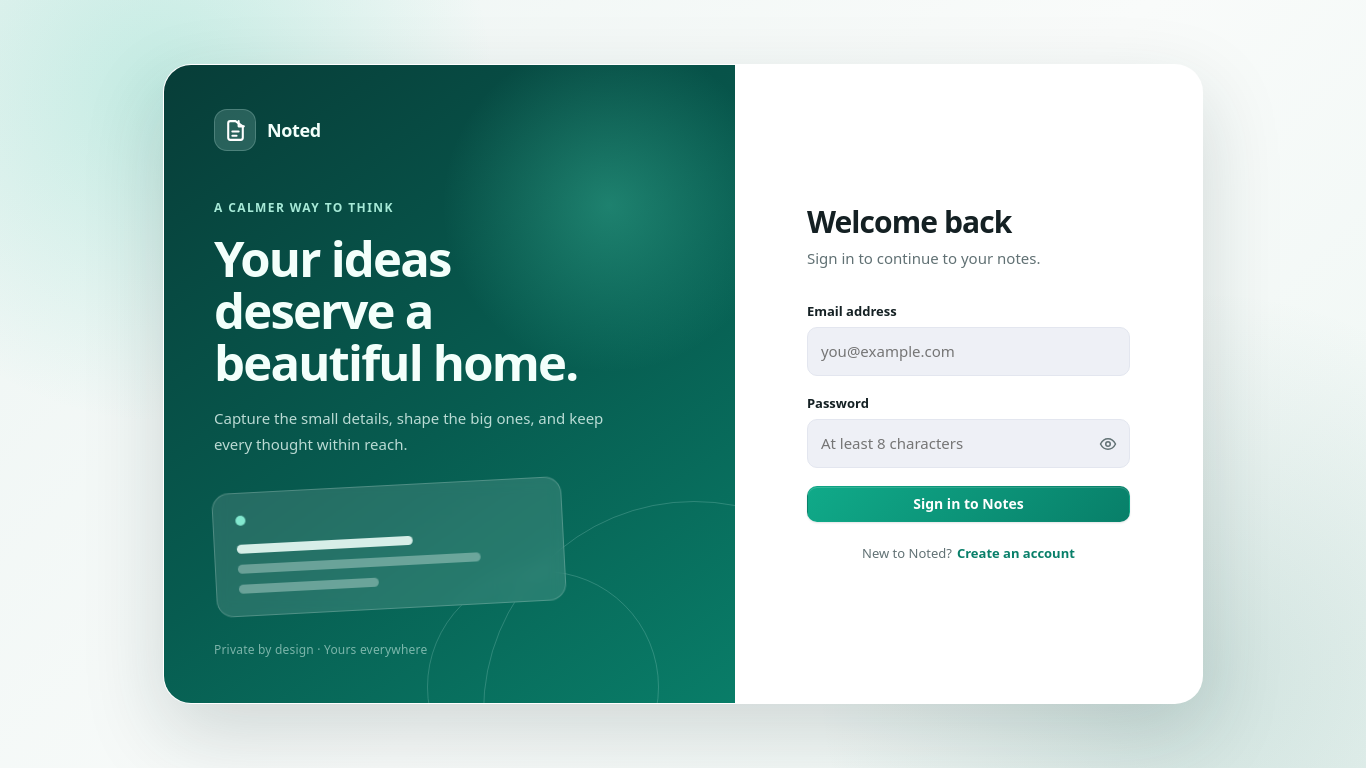
it: Login › shows the backend error message on a failed sign-in
Type "a@b.com" into the field labelled "Email address" at (968, 352), box [807,327,1130,376]
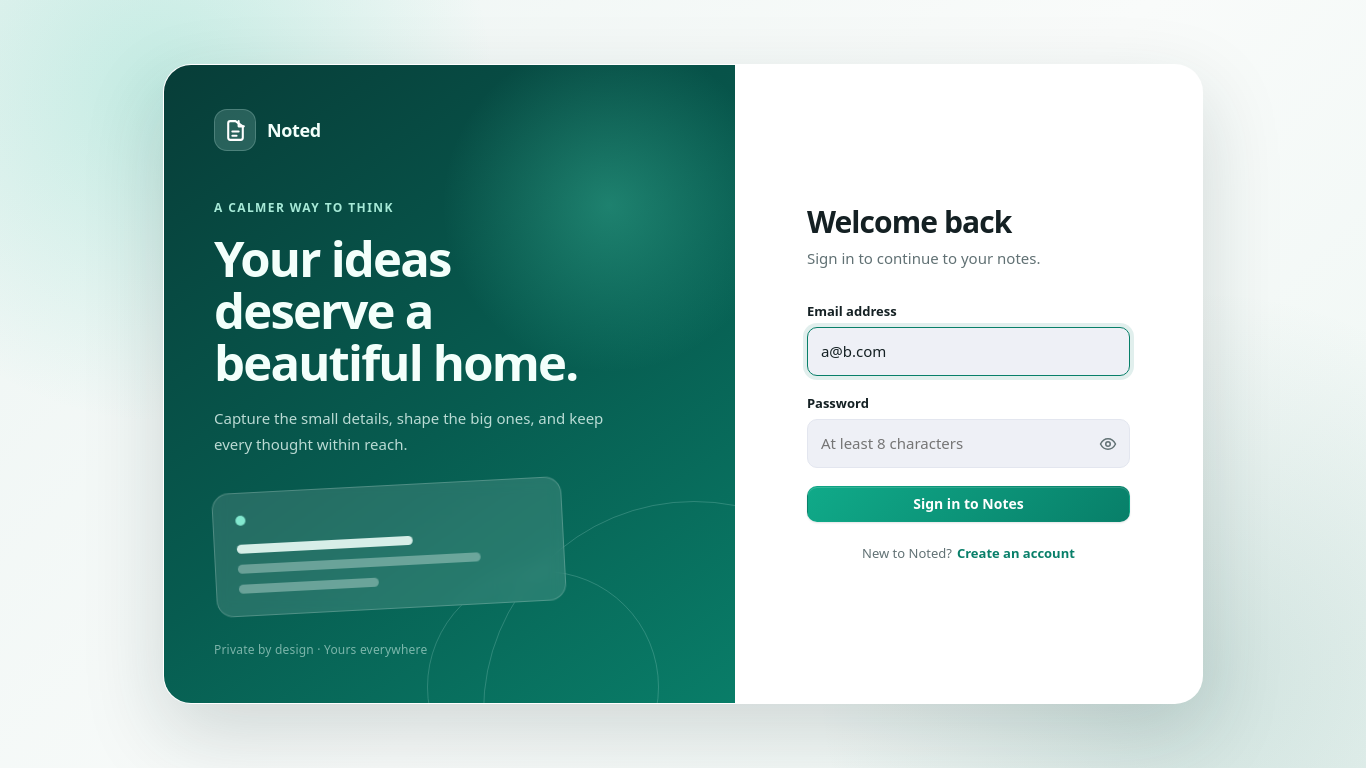
Type "wrong" into the password field labelled "Password" at (968, 444), box [807,419,1130,468]
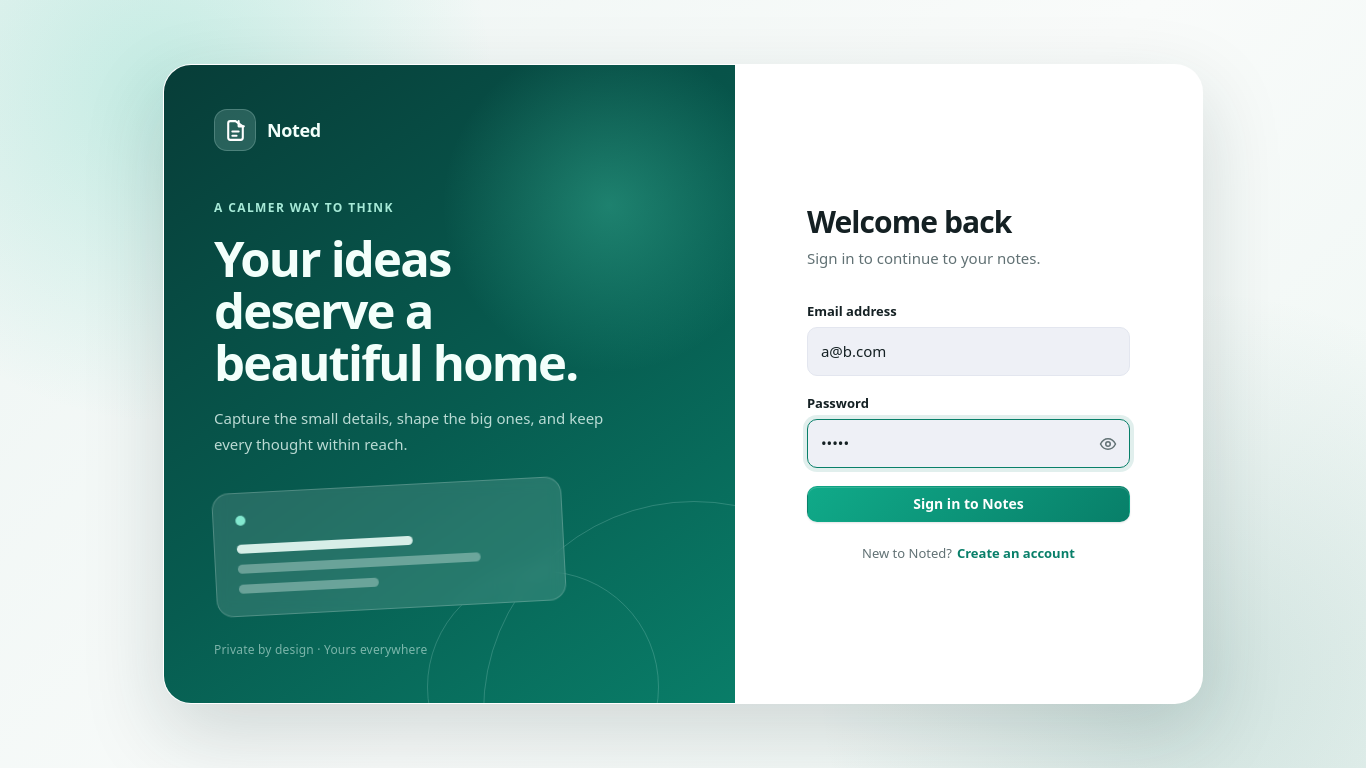
Click the button "Sign in to Notes" at (968, 504), box [807,486,1130,522]
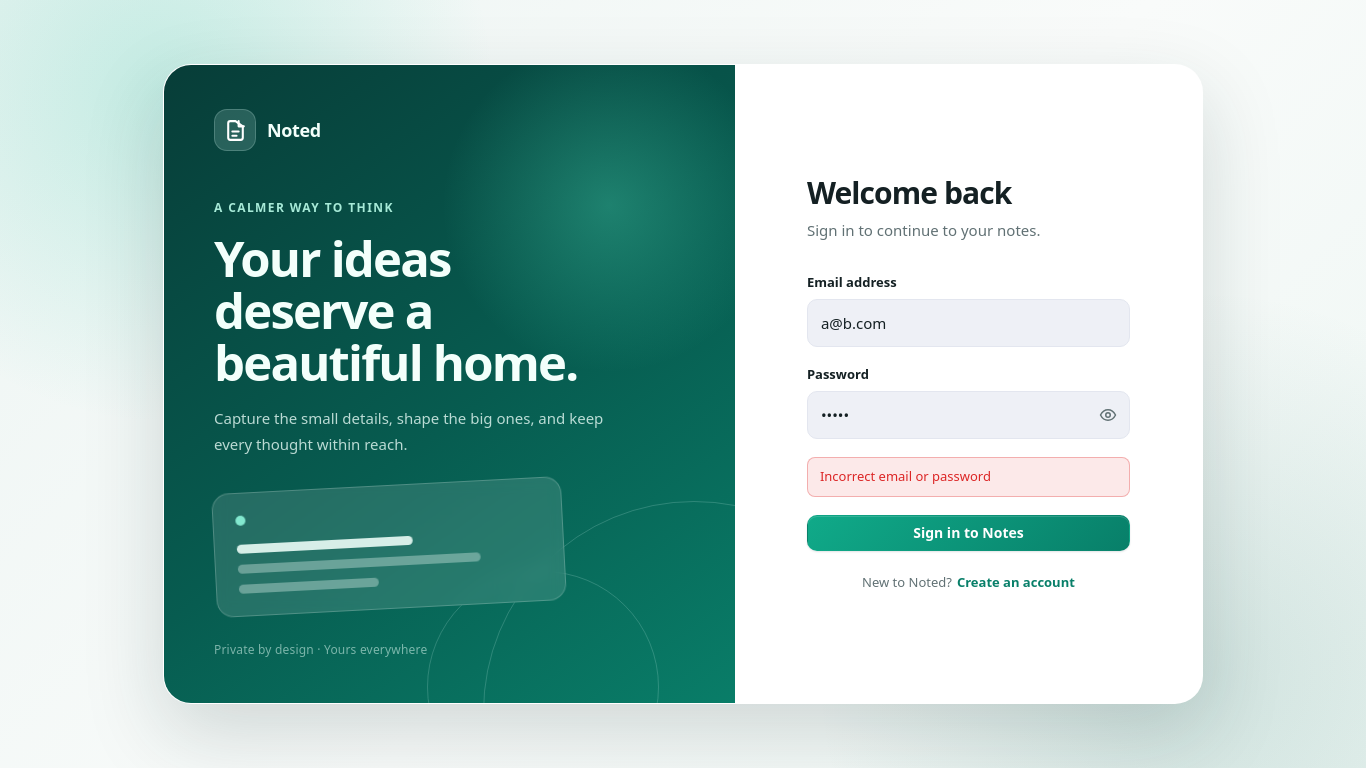
Expected: the message reads "Incorrect email or password", [820,467,991,485]
